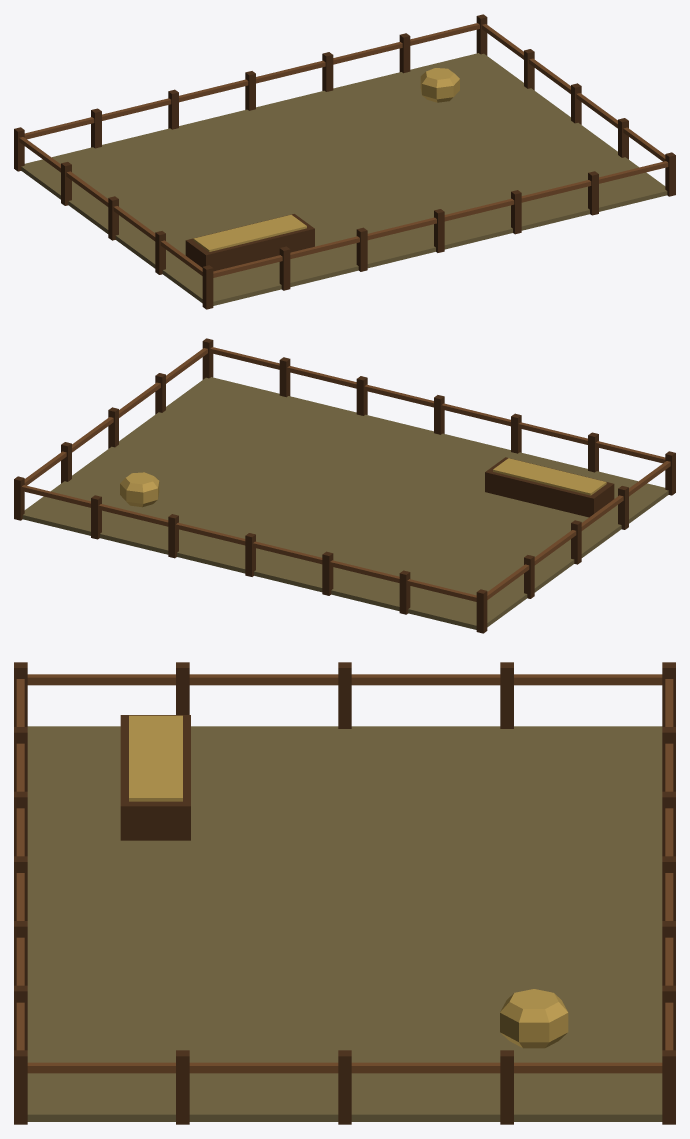
The model's file is pen.glb.
3 renders of one model, top to bottom at view 1: azimuth 30°, elevation 25°; view 2: azimuth 150°, elevation 25°; view 3: azimuth 270°, elevation 25°, orthographic. The views are drawn at different scales.
Visible parts, largest first — view 1: pen; view 2: pen; view 3: pen.
Boxes of the visible parts, x1=… form: pen: x1=14, y1=14, x2=675, y2=309; pen: x1=14, y1=338, x2=675, y2=633; pen: x1=14, y1=662, x2=675, y2=1124.
Bounding box in the file's own units: 3.45 × 0.28 × 2.45.
